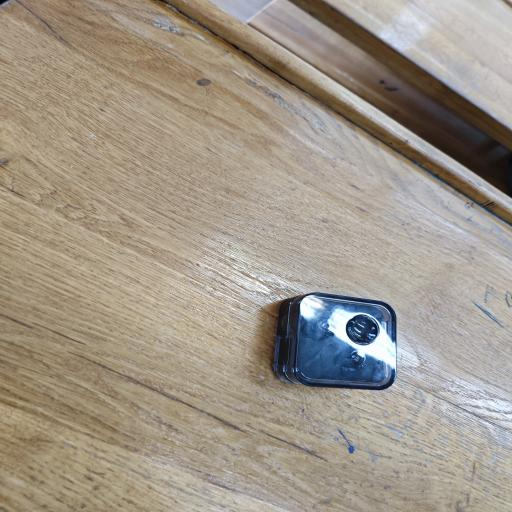Headphones: (267, 286, 404, 394)
